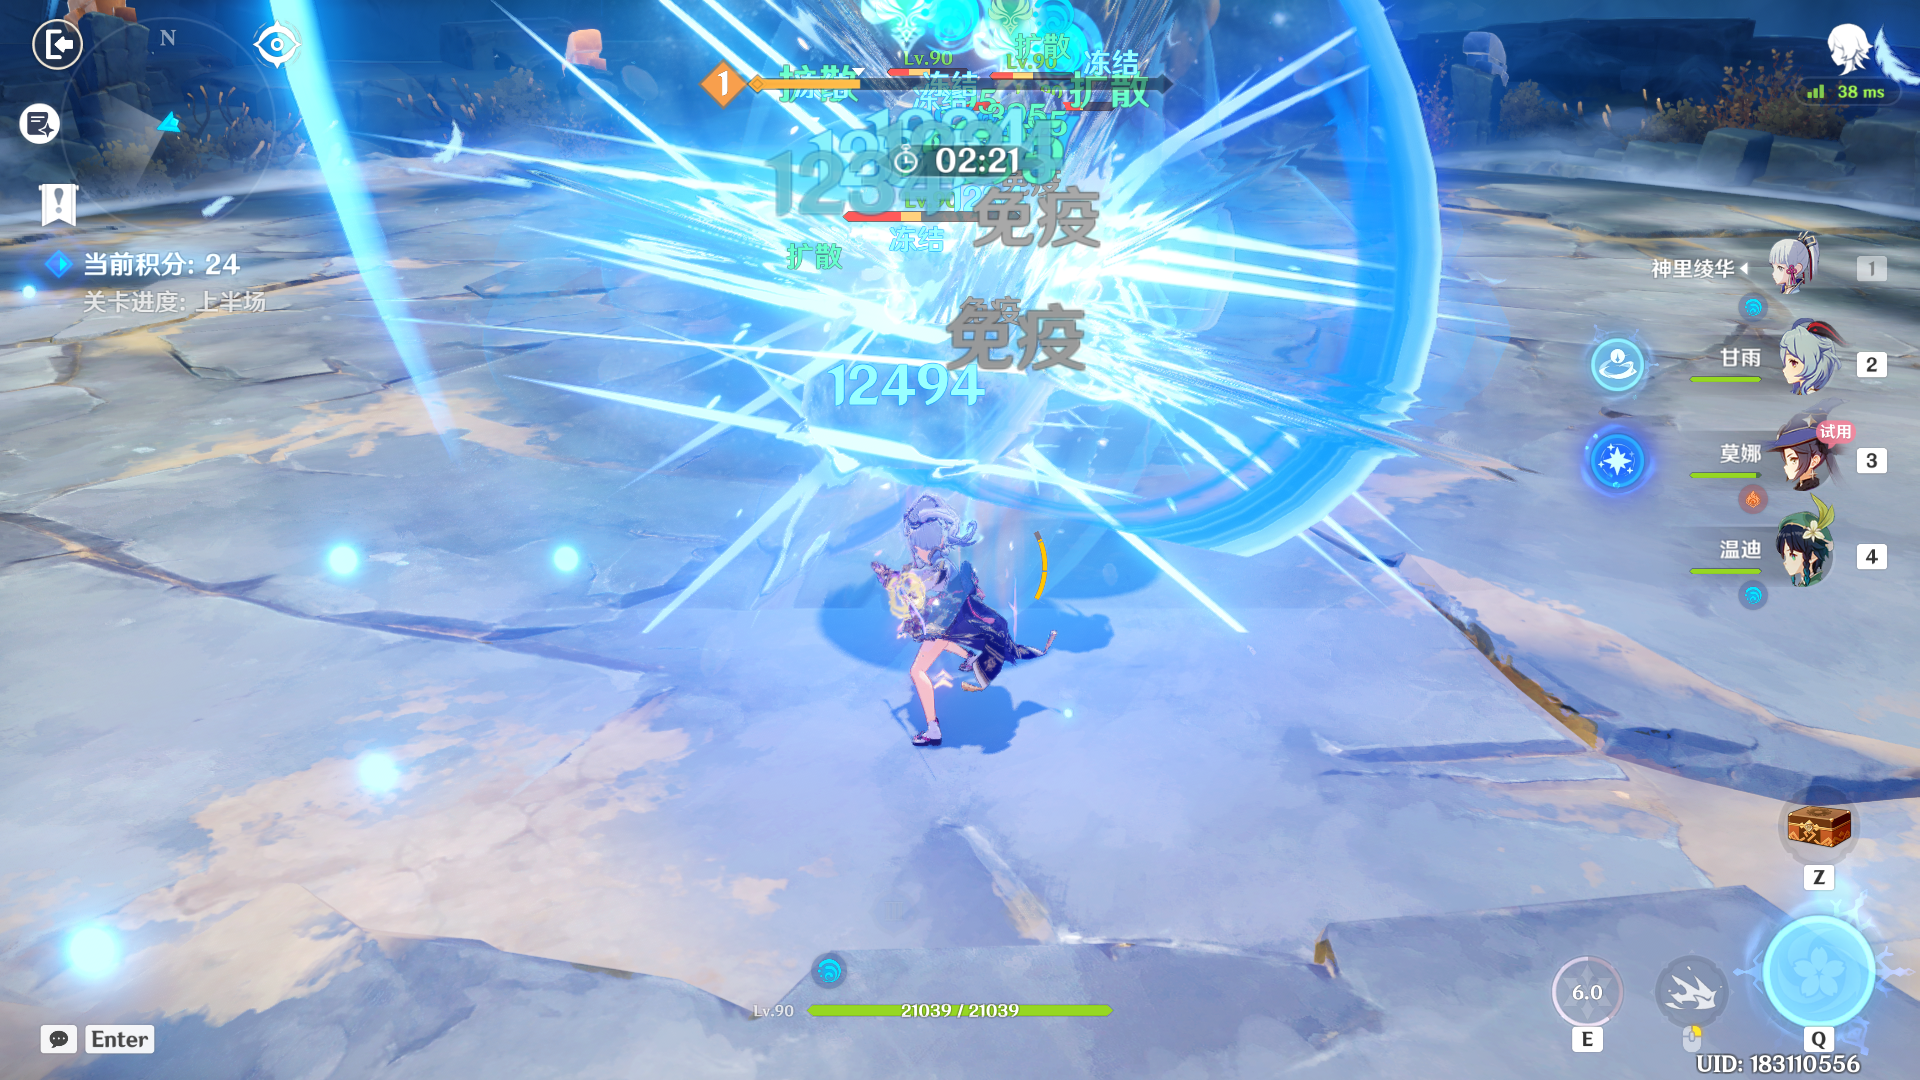character: (843, 467, 1069, 749)
